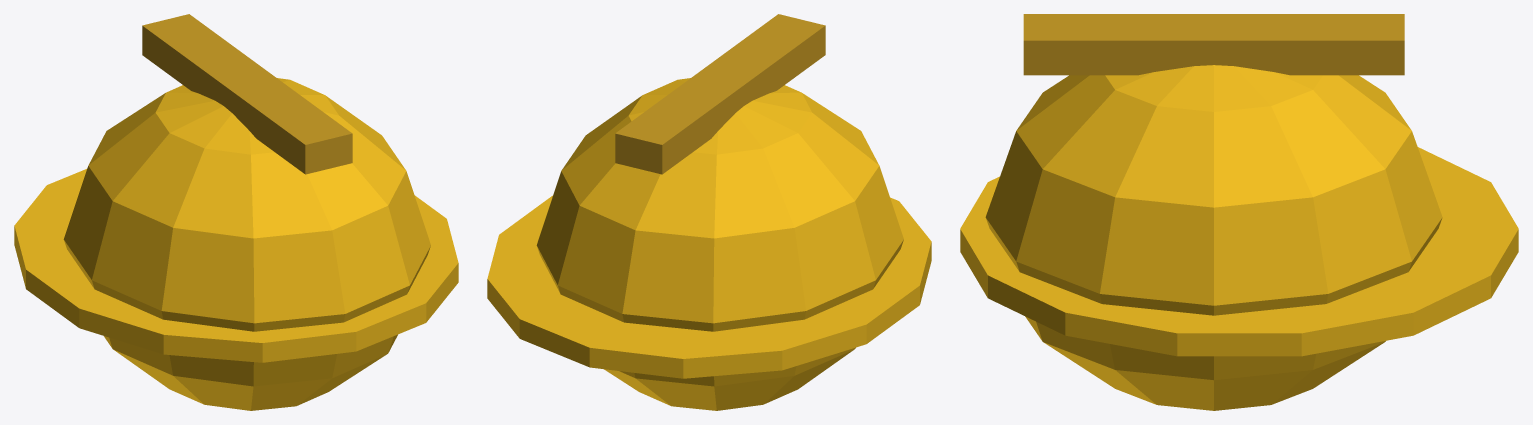
The model's file is cosmetic_hat_hard_hat.glb.
3 views of the same model, side by side, from view 1: azimuth 30°, elevation 25°; view 2: azimuth 150°, elevation 25°; view 3: azimuth 270°, elevation 25° (orthographic). The views are drawn at different scales.
Visible parts, largest first — view 1: cosmetic_hat_hard_hat; view 2: cosmetic_hat_hard_hat; view 3: cosmetic_hat_hard_hat.
Boxes of the visible parts, x1=… form: cosmetic_hat_hard_hat: x1=14, y1=14, x2=458, y2=410; cosmetic_hat_hard_hat: x1=487, y1=14, x2=931, y2=410; cosmetic_hat_hard_hat: x1=960, y1=14, x2=1518, y2=410.
Size of the model in its own units: 0.39 by 0.315 by 0.44.
1 material, 1 textured.
